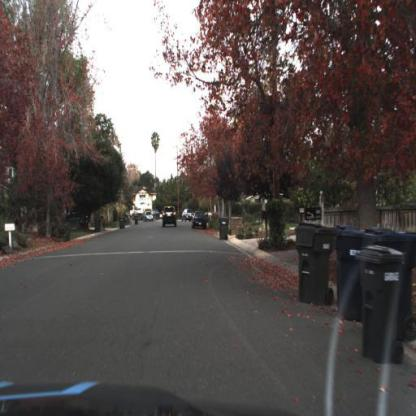car: (161, 205, 180, 230), (192, 211, 208, 233), (183, 209, 195, 221), (145, 211, 154, 223)
